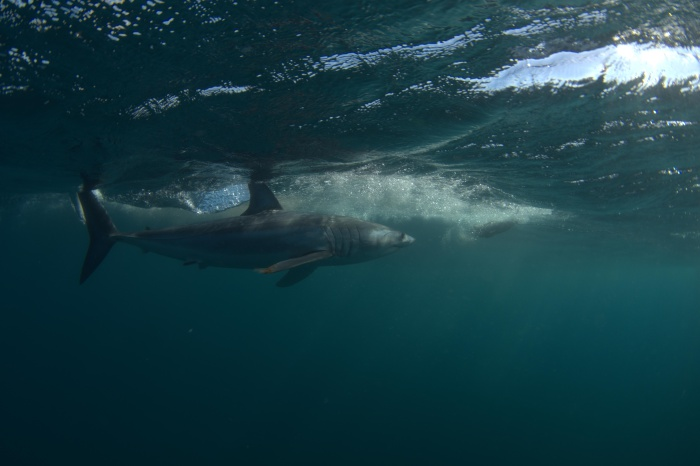Mako: (59, 159, 416, 295)
